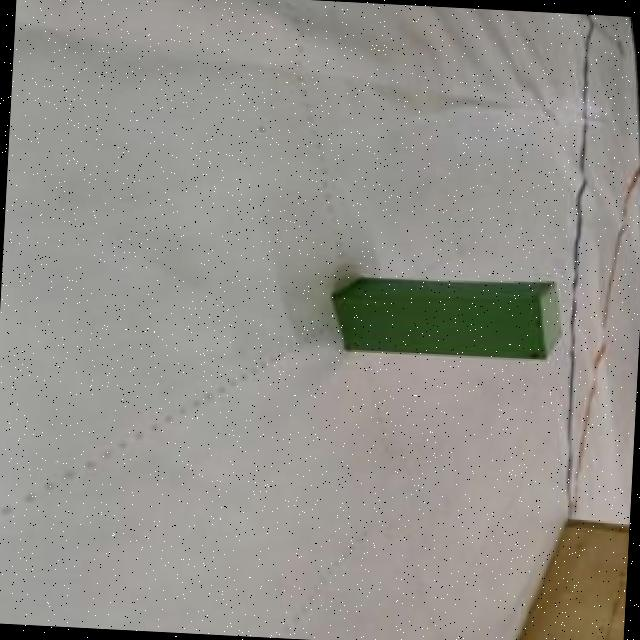greenbox: (326, 268, 571, 362)
